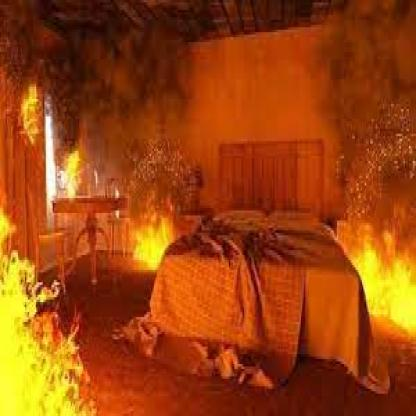fire: (0, 201, 98, 416), (359, 241, 416, 340), (125, 216, 174, 283), (19, 97, 39, 159), (61, 151, 80, 193)
smoke: (0, 0, 210, 171), (300, 0, 416, 216)
